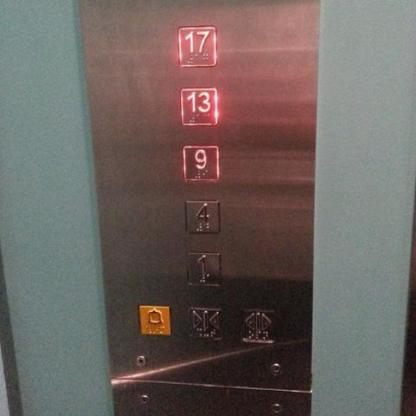1: (182, 247, 221, 288)
13: (178, 84, 218, 127)
17: (174, 22, 219, 68)
4: (182, 195, 221, 236)
9: (180, 141, 221, 183)
alarm: (136, 302, 172, 337)
close: (184, 303, 224, 343)
open: (237, 304, 276, 345)
